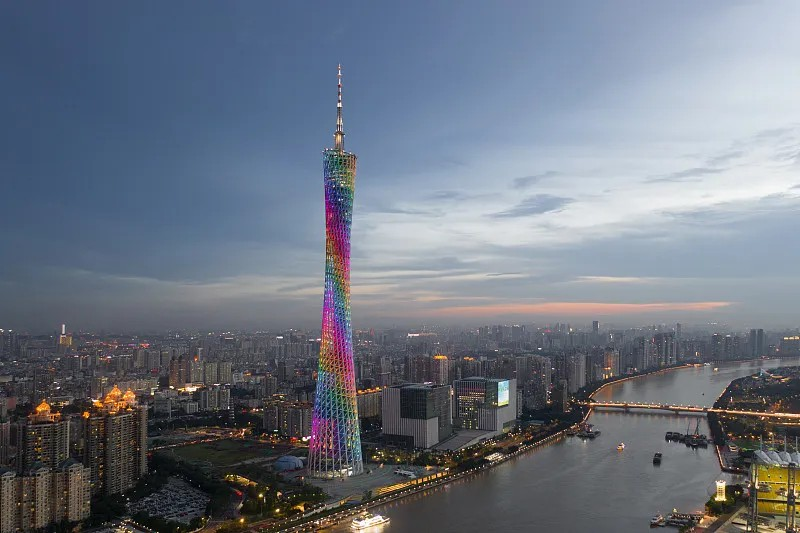Canton: (306, 65, 369, 473)
